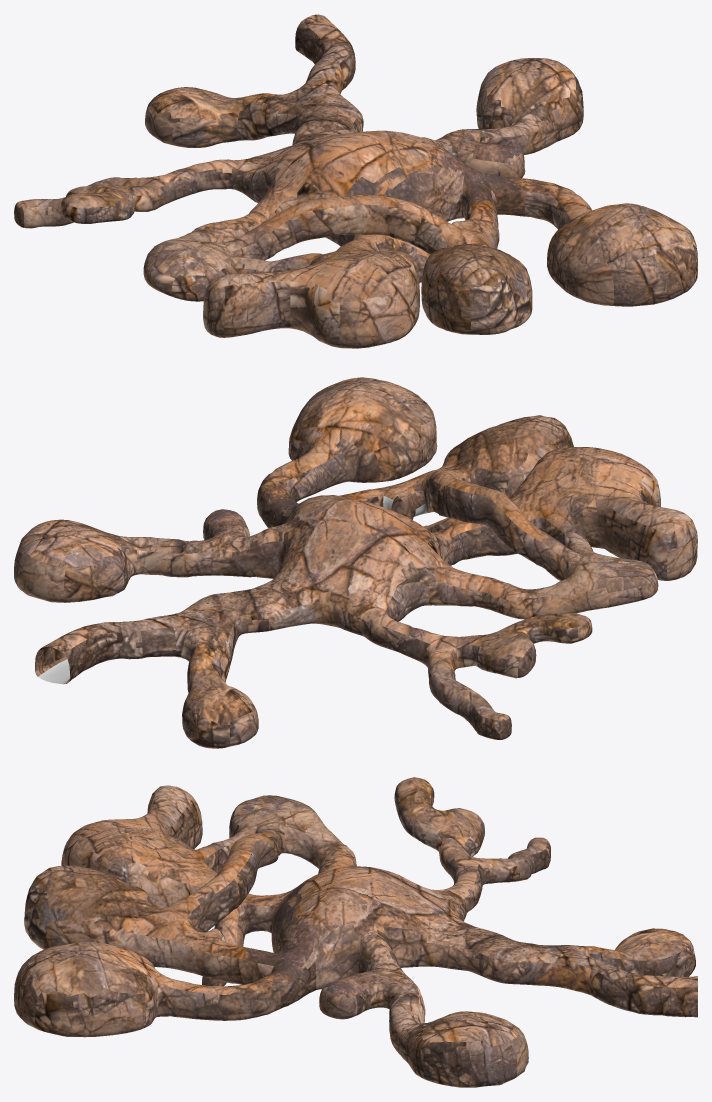
Rendered from Escenario_2.fbx.
3 views of the same model, one above another, from view 1: azimuth 30°, elevation 25°; view 2: azimuth 150°, elevation 25°; view 3: azimuth 270°, elevation 25° (orthographic). The views are drawn at different scales.
Visible parts, largest first — view 1: EscenarioFINAL; view 2: EscenarioFINAL; view 3: EscenarioFINAL.
Boxes of the visible parts, x1,y1,x2,y2 form: EscenarioFINAL: [14, 14, 697, 348]; EscenarioFINAL: [14, 377, 697, 748]; EscenarioFINAL: [14, 777, 697, 1087].
Bounding box in the file's own units: 155 × 30.63 × 175.
